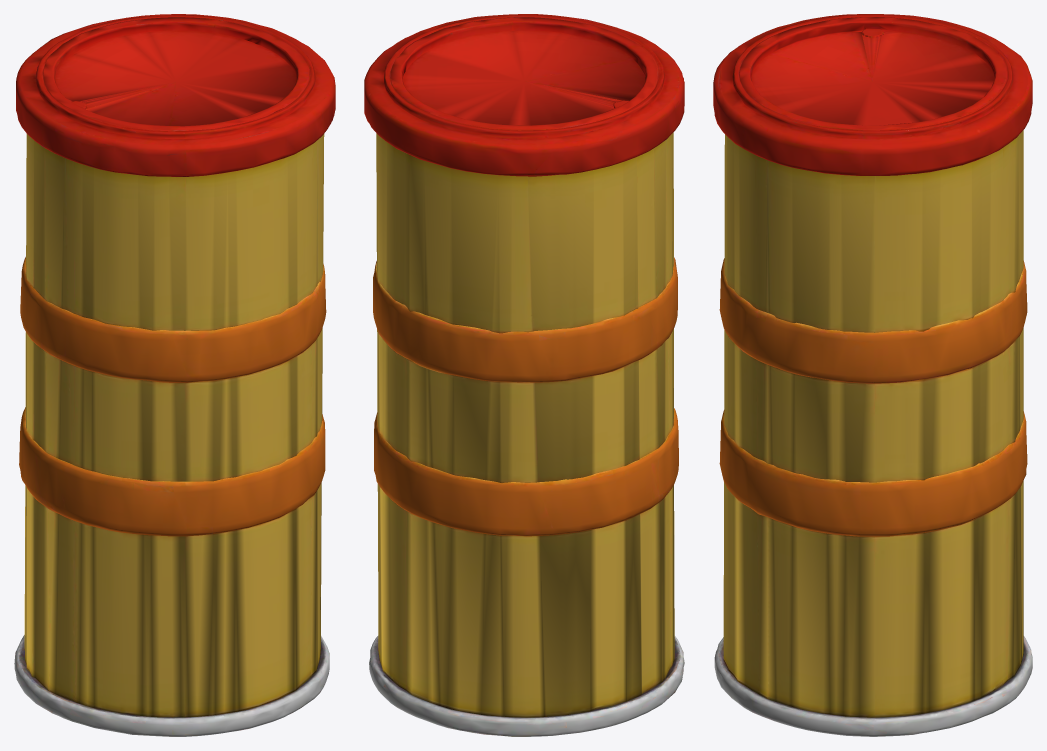
The picture shows the model from 3 angles, left to right: view 1: azimuth 30°, elevation 25°; view 2: azimuth 150°, elevation 25°; view 3: azimuth 270°, elevation 25°; orthographic projection.
Parts seen in each view (by area): view 1: tripo_node_108e848a-401f-4f0f-843b-5d18d2c90ae0; view 2: tripo_node_108e848a-401f-4f0f-843b-5d18d2c90ae0; view 3: tripo_node_108e848a-401f-4f0f-843b-5d18d2c90ae0.
Boxes of the visible parts, x1,y1,x2,y2 form: tripo_node_108e848a-401f-4f0f-843b-5d18d2c90ae0: [14, 14, 335, 736]; tripo_node_108e848a-401f-4f0f-843b-5d18d2c90ae0: [364, 14, 684, 736]; tripo_node_108e848a-401f-4f0f-843b-5d18d2c90ae0: [713, 14, 1032, 736].
Bounding box in the file's own units: 0.4863 × 0.998 × 0.4824.
1 material, 1 textured.
